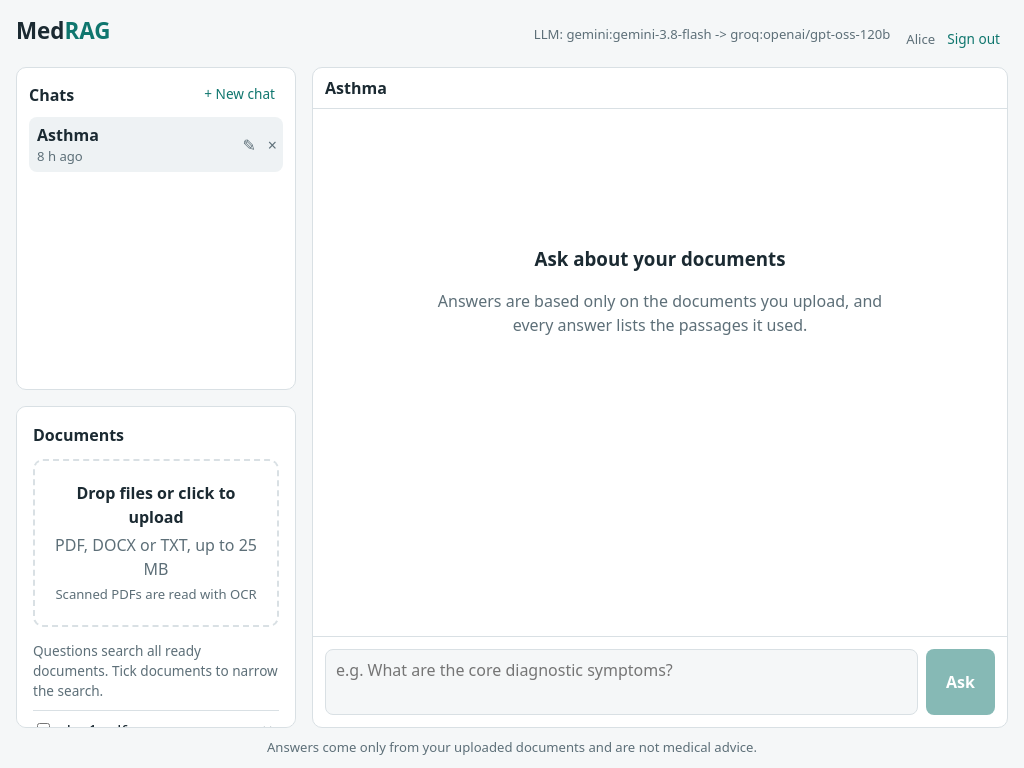
Test: chats › renames a chat
Click the button named "Rename chat: Asthma" at (249, 145), box x1=236 y1=135 x2=262 y2=155
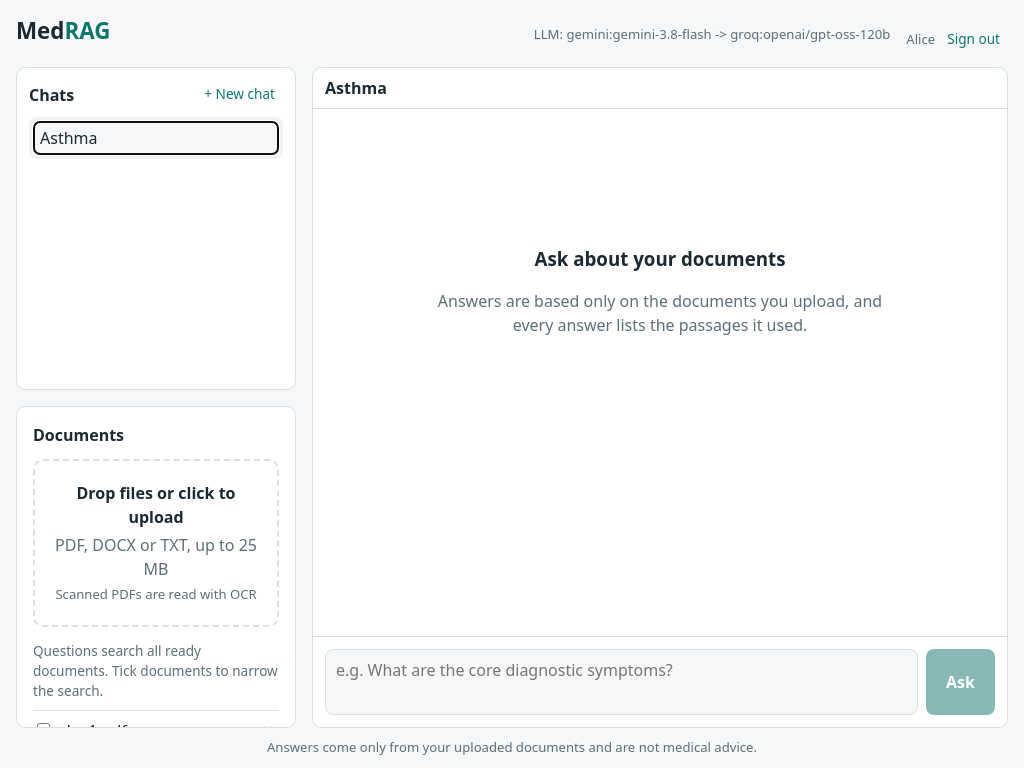
Type " clinic" into the field named "Chat title" at (156, 138), box x1=33 y1=121 x2=279 y2=155
Then press Enter
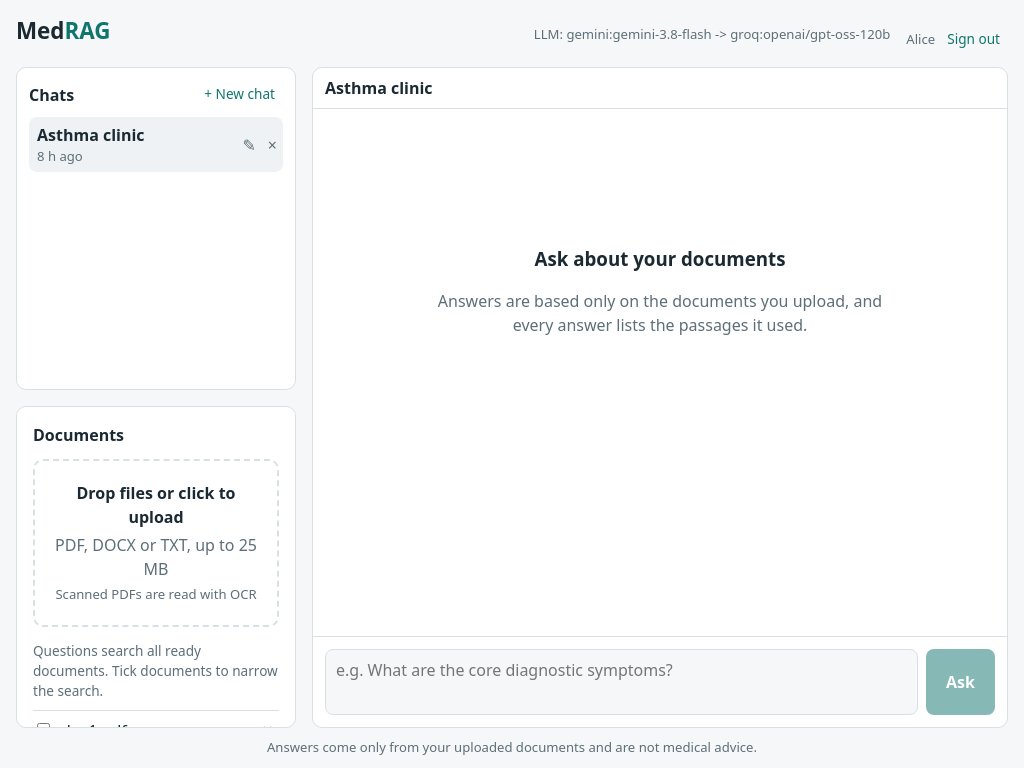
Check: the heading "Asthma clinic" is shown, box x1=325 y1=76 x2=433 y2=100
